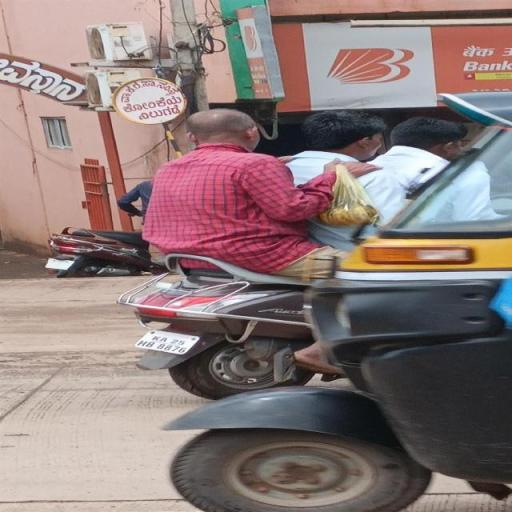tripple riding: (135, 97, 477, 264)
